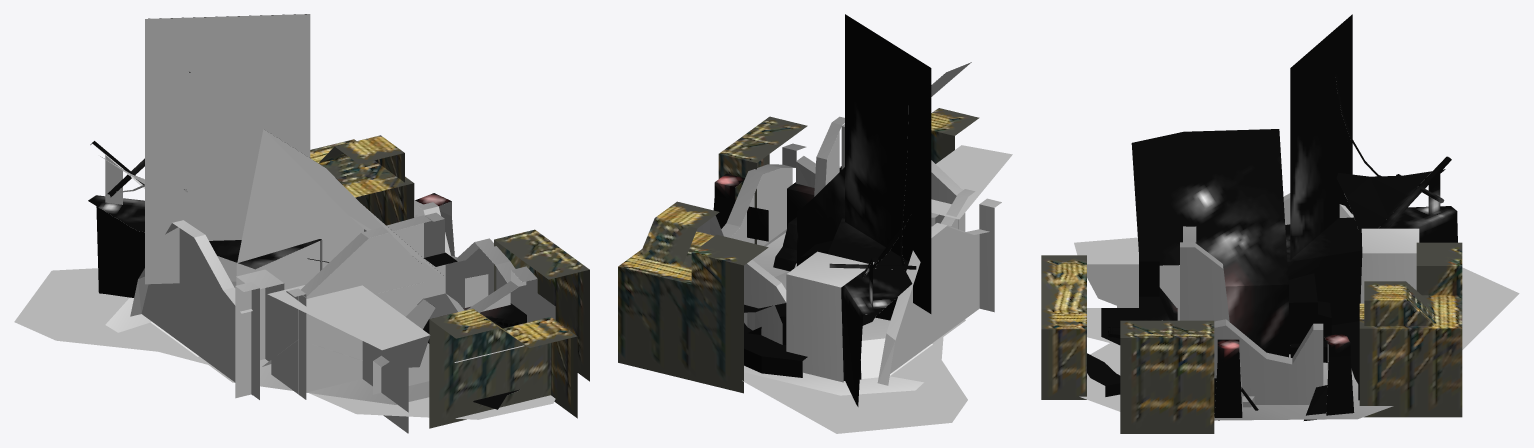
The model's file is T_Boomhouse_01.fbx.
3 renders of one model, left to right at view 1: azimuth 30°, elevation 25°; view 2: azimuth 150°, elevation 25°; view 3: azimuth 270°, elevation 25°, orthographic. The views are drawn at different scales.
Visible parts, largest first — view 1: T_Boomhouse_01, T_Boomhouse_01_Lock, T_BuildForm_03, FX_Territory_NightGlow, FX_BuildUnLock_Glow, T_BuildForm_01, T_BuildForm_02 (3); view 2: FX_Territory_NightGlow, FX_BuildUnLock_Glow, T_BuildForm_01, T_Boomhouse_01, T_Boomhouse_01_Lock, T_BuildForm_02 (3), T_BuildForm_03; view 3: FX_Territory_NightGlow, T_BuildForm_01, FX_BuildUnLock_Glow, T_BuildForm_02 (3), T_Boomhouse_01, T_BuildForm_03.
Boxes of the visible parts, x1=… form: T_Boomhouse_01: x1=14, y1=14, x2=555, y2=433; T_Boomhouse_01_Lock: x1=130, y1=206, x2=537, y2=399; T_BuildForm_03: x1=429, y1=308, x2=577, y2=428; FX_Territory_NightGlow: x1=88, y1=14, x2=526, y2=409; FX_BuildUnLock_Glow: x1=105, y1=202, x2=536, y2=404; T_BuildForm_01: x1=310, y1=135, x2=414, y2=225; T_BuildForm_02 (3): x1=494, y1=229, x2=589, y2=381; FX_Territory_NightGlow: x1=713, y1=14, x2=941, y2=406; FX_BuildUnLock_Glow: x1=696, y1=116, x2=1001, y2=395; T_BuildForm_01: x1=618, y1=201, x2=768, y2=393; T_Boomhouse_01: x1=742, y1=62, x2=1012, y2=433; T_Boomhouse_01_Lock: x1=710, y1=129, x2=979, y2=374; T_BuildForm_02 (3): x1=718, y1=116, x2=807, y2=244; T_BuildForm_03: x1=931, y1=108, x2=979, y2=163; FX_Territory_NightGlow: x1=1087, y1=14, x2=1457, y2=420; T_BuildForm_01: x1=1359, y1=242, x2=1462, y2=417; FX_BuildUnLock_Glow: x1=1162, y1=193, x2=1419, y2=420; T_BuildForm_02 (3): x1=1120, y1=320, x2=1214, y2=433; T_Boomhouse_01: x1=1074, y1=81, x2=1519, y2=415; T_BuildForm_03: x1=1041, y1=255, x2=1086, y2=399.
Bounding box in the file's own units: 9.4 × 8.03 × 11.77.
